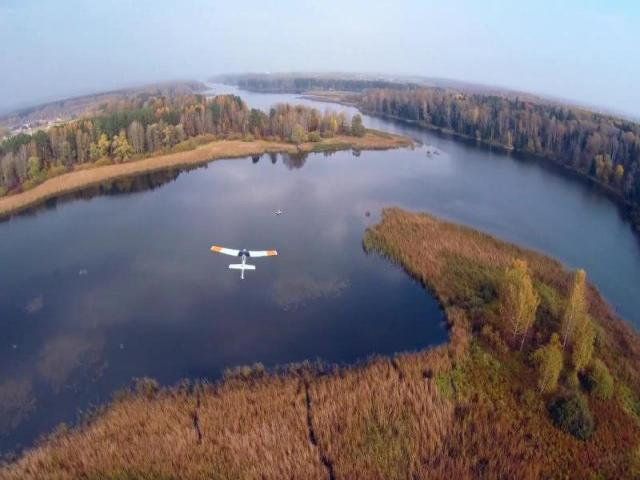hedef: (212, 244, 282, 282)
